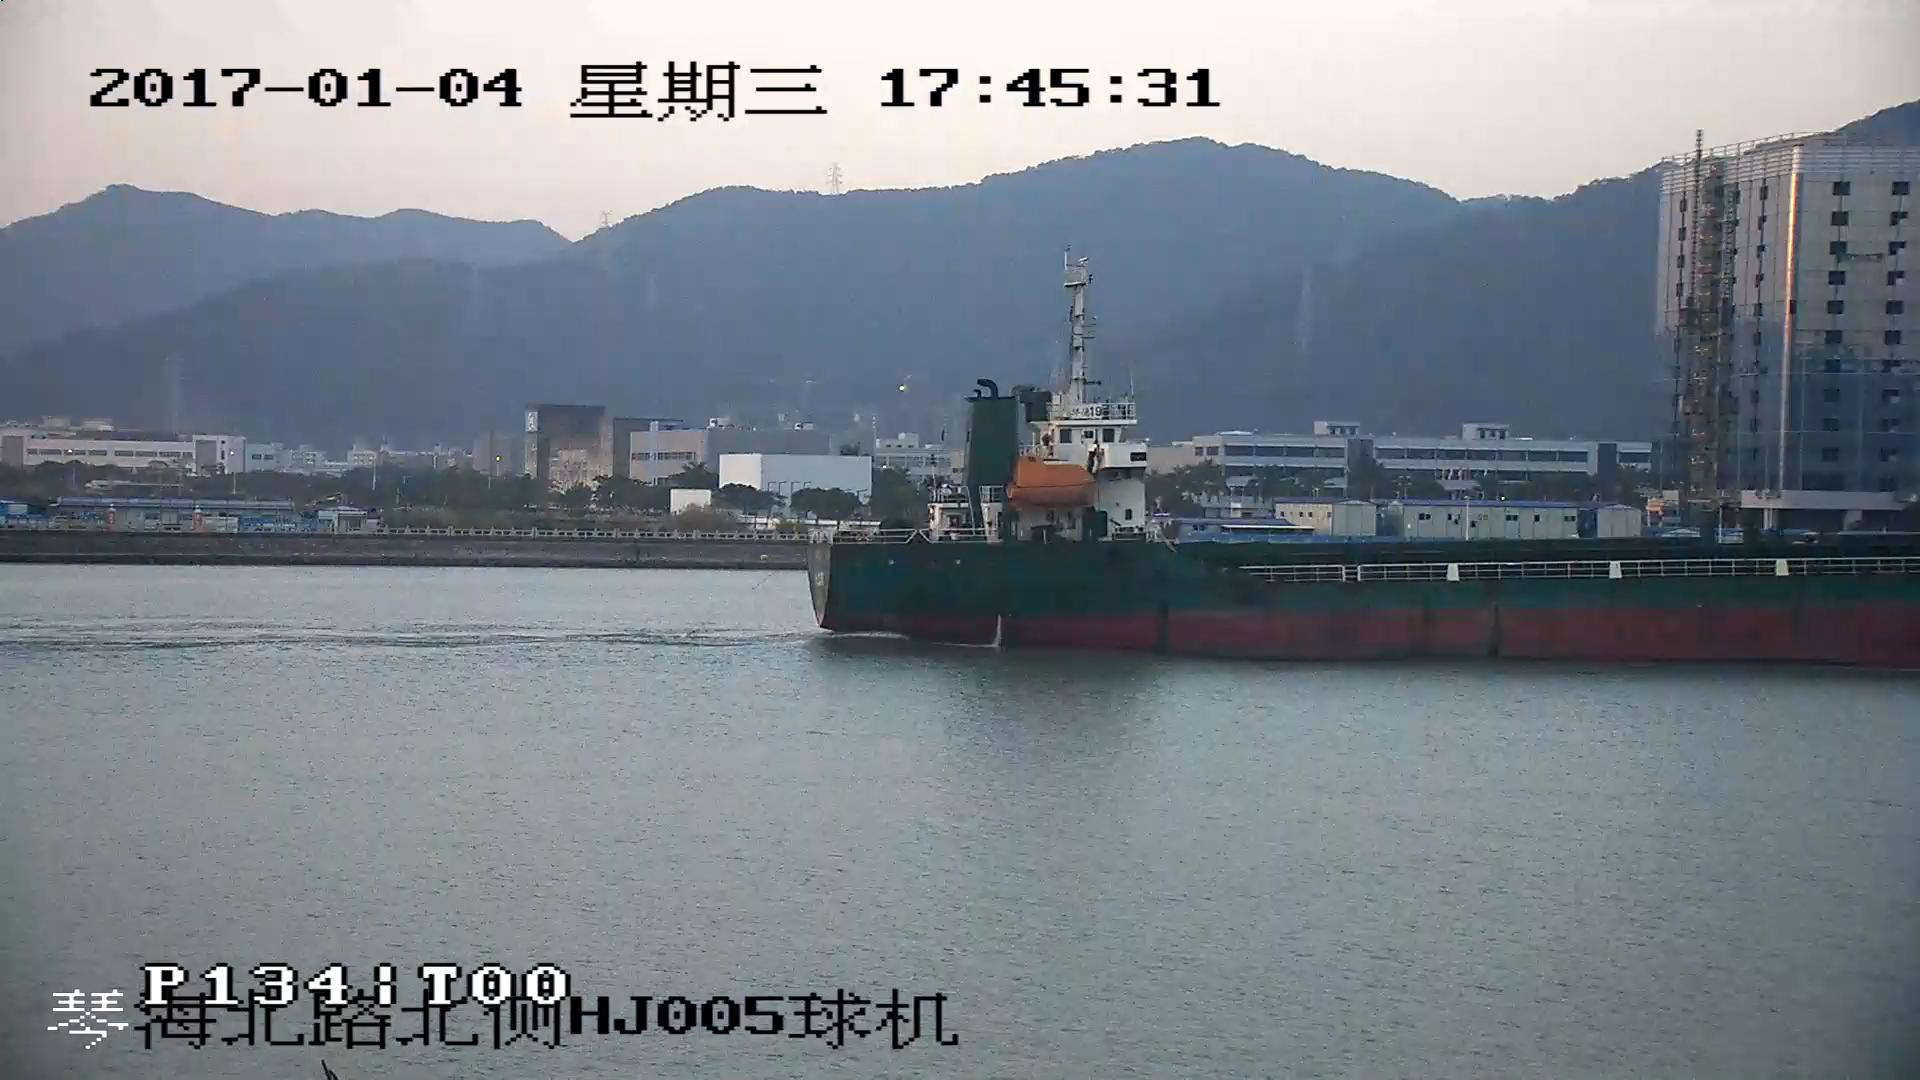general cargo ship: (806, 251, 1920, 675)
